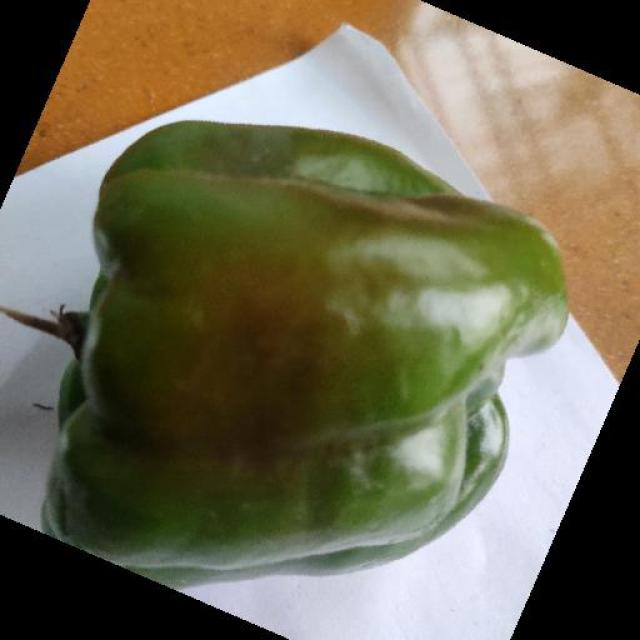Stale_Capsicum: (91, 97, 490, 640)
